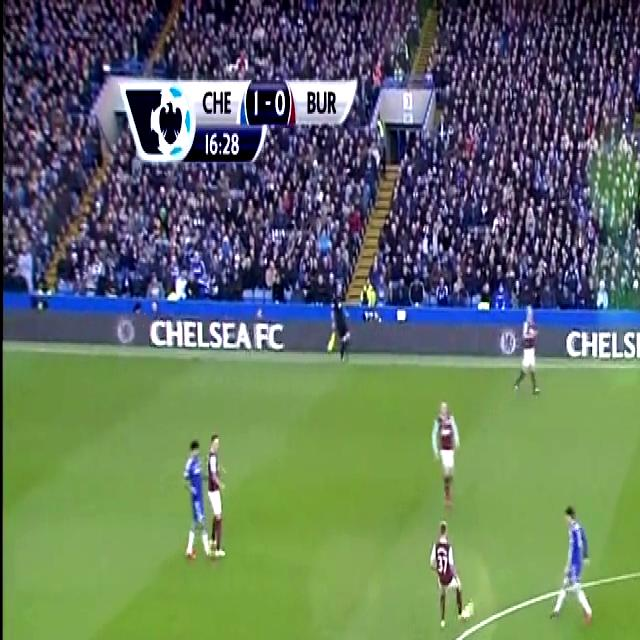ball: (462, 595, 476, 628)
referee: (327, 276, 358, 368)
soccer-player: (549, 492, 601, 622), (424, 389, 464, 516), (179, 427, 214, 565), (201, 423, 235, 565), (426, 516, 468, 626), (508, 290, 546, 401)
